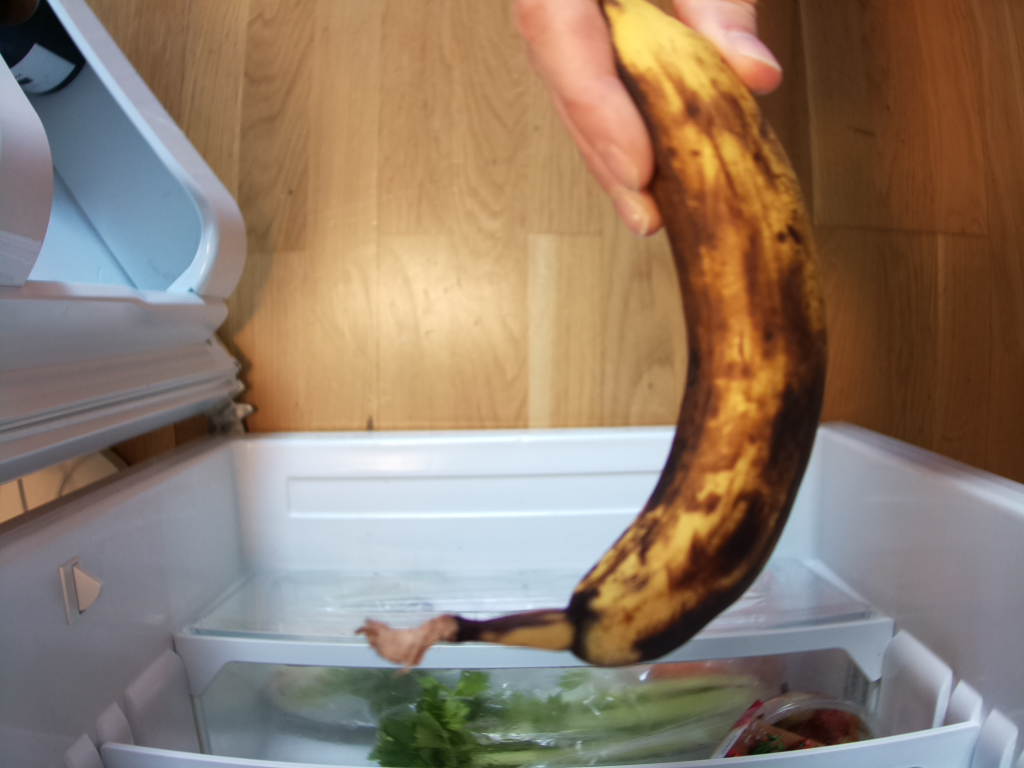banana-overripe: (366, 1, 826, 668)
